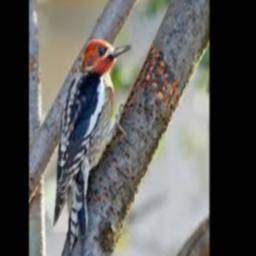Woodpecker: (54, 39, 132, 256)
